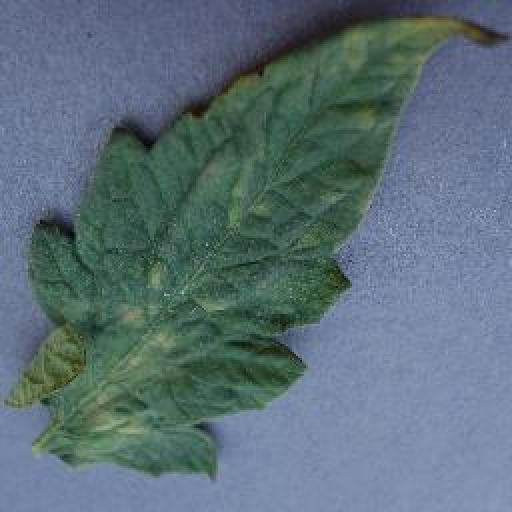disease_tomato: (8, 16, 506, 482)
